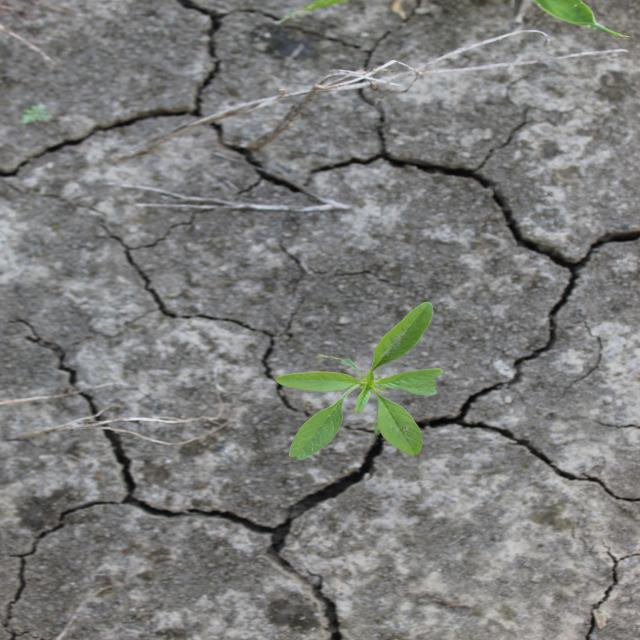Waterhemp: (274, 301, 443, 461)
